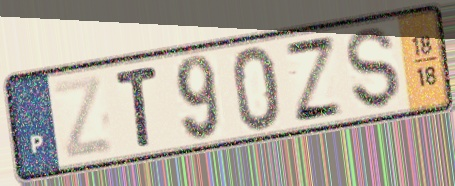0: (230, 43, 283, 135)
9: (175, 51, 226, 144)
S: (343, 26, 404, 112)
T: (112, 62, 161, 150)
Z: (50, 71, 117, 163), (281, 34, 347, 124)
